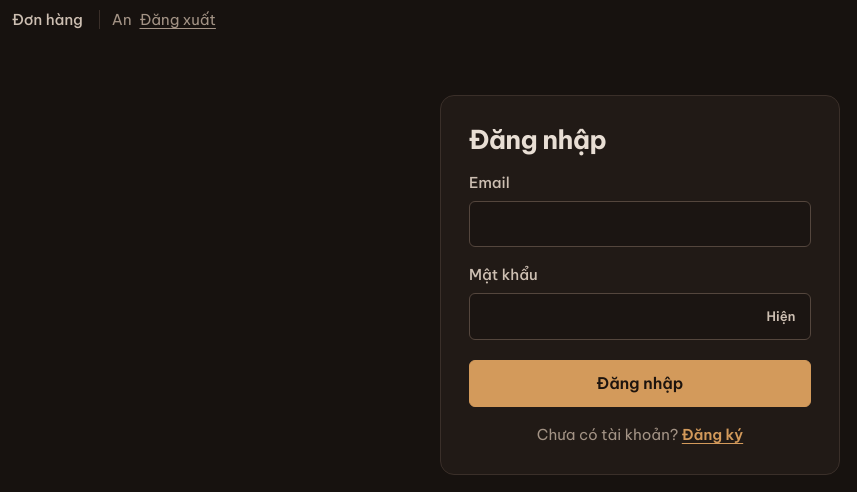
AuthProvider › khôi phục phiên từ token đã lưu và cho phép đăng xuất
The image size is (857, 492).
expect the text with test id "user-name" reads "An": met, box [112, 10, 131, 29]
Click the button "Đăng xuất" at (178, 20), box [140, 4, 216, 35]
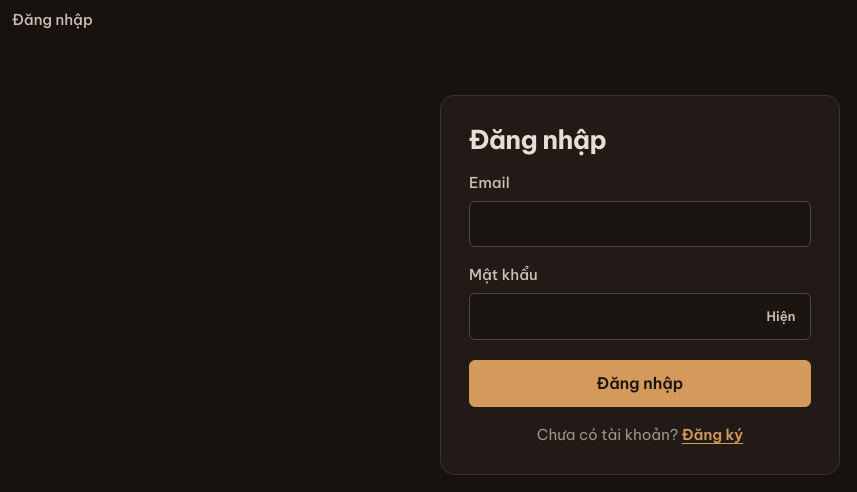
expect the link "Đăng nhập" is shown: met, box [12, 10, 93, 29]
